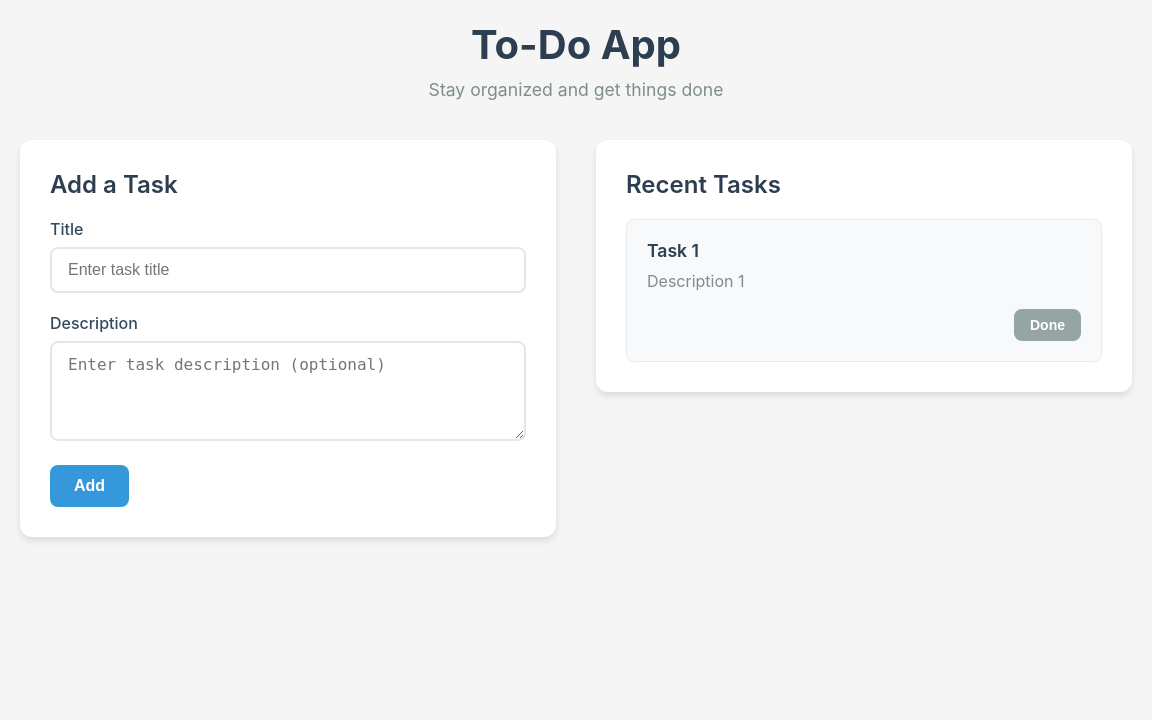
Test: App › handles task completion
Expected: the text "Task 1" is shown, [647,240,699,261]
Click the button "Done": click(1048, 325) [1014,309,1081,341]
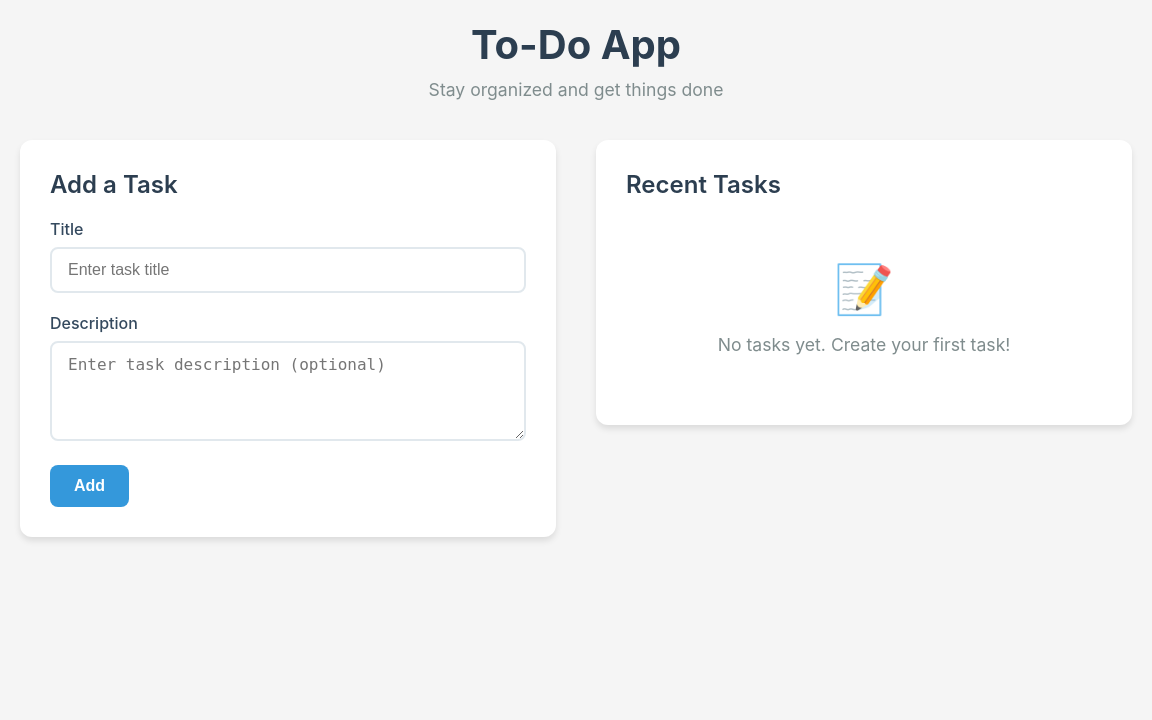
Expected: the text "Task 1" is gone
